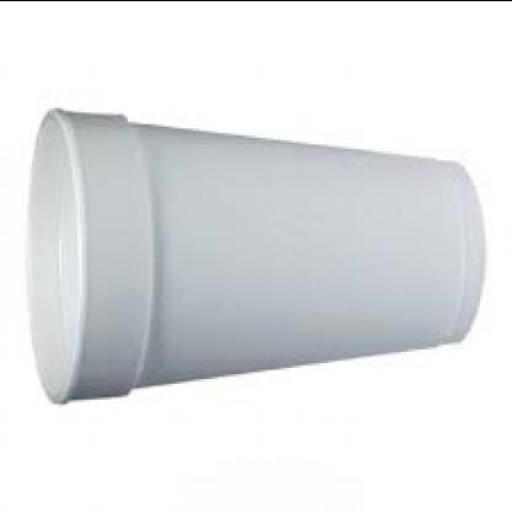paper: (25, 112, 480, 405)
